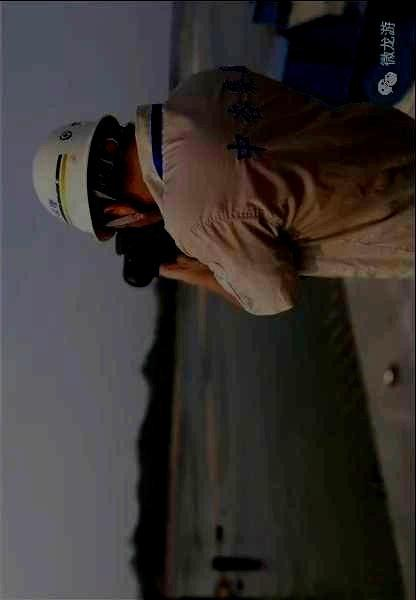helmet: (31, 113, 163, 244)
